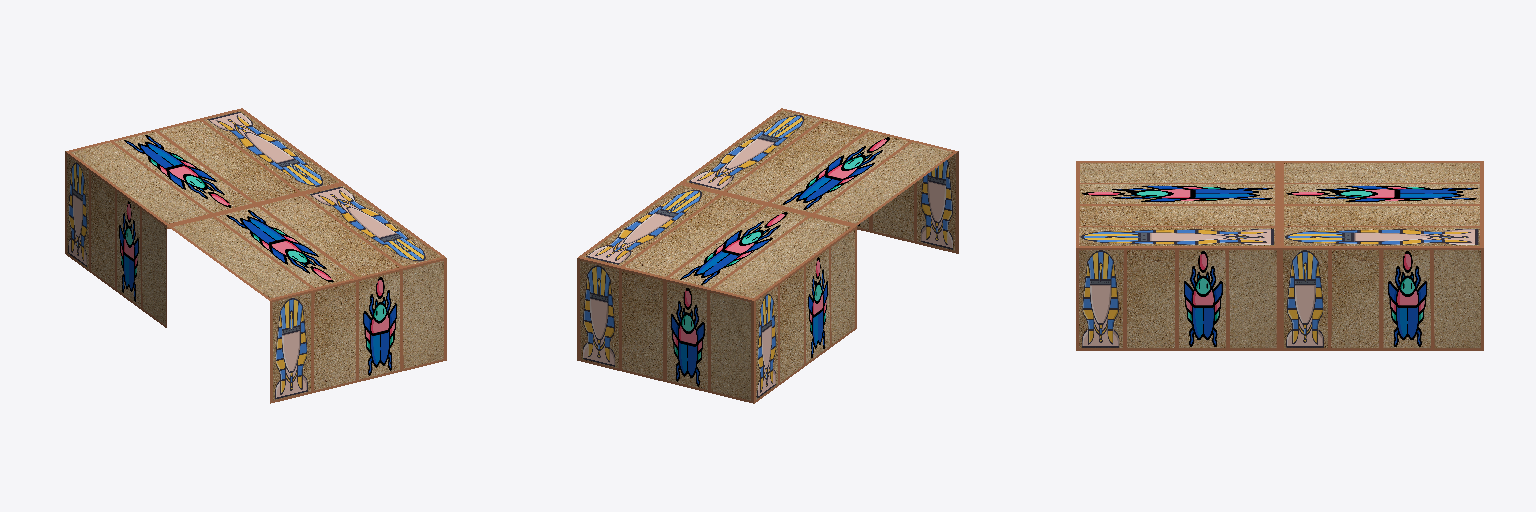
3 views of the same model, side by side, from view 1: azimuth 30°, elevation 25°; view 2: azimuth 150°, elevation 25°; view 3: azimuth 270°, elevation 25° (orthographic).
Parts seen in each view (by area): view 1: Box093; view 2: Box093; view 3: Box093.
Part boxes in pixels (x1,y1,x2,y2): Box093: (65,108,446,403); Box093: (577,108,958,403); Box093: (1076,161,1483,350).
Bounding box in the file's own units: 4.5 × 2.5 × 9.
Materials: 1 (1 with a texture image).